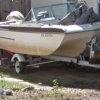Boat: (1, 7, 98, 73)
